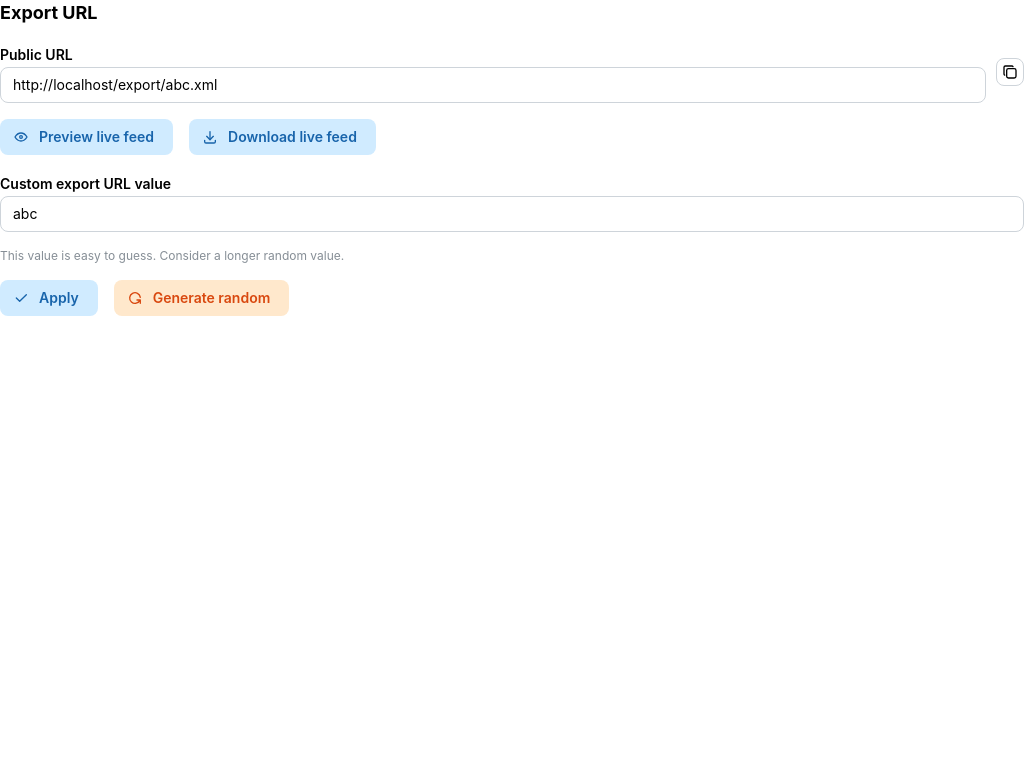
it: ExportUrlBlock › updates the token field after a rotate refreshes the parent feed source
Expected: the field with test id "token-input" holds "abc", left=0, top=196, right=1023, bottom=232
Click the button "Generate random" at (202, 298), box left=114, top=280, right=289, bottom=316
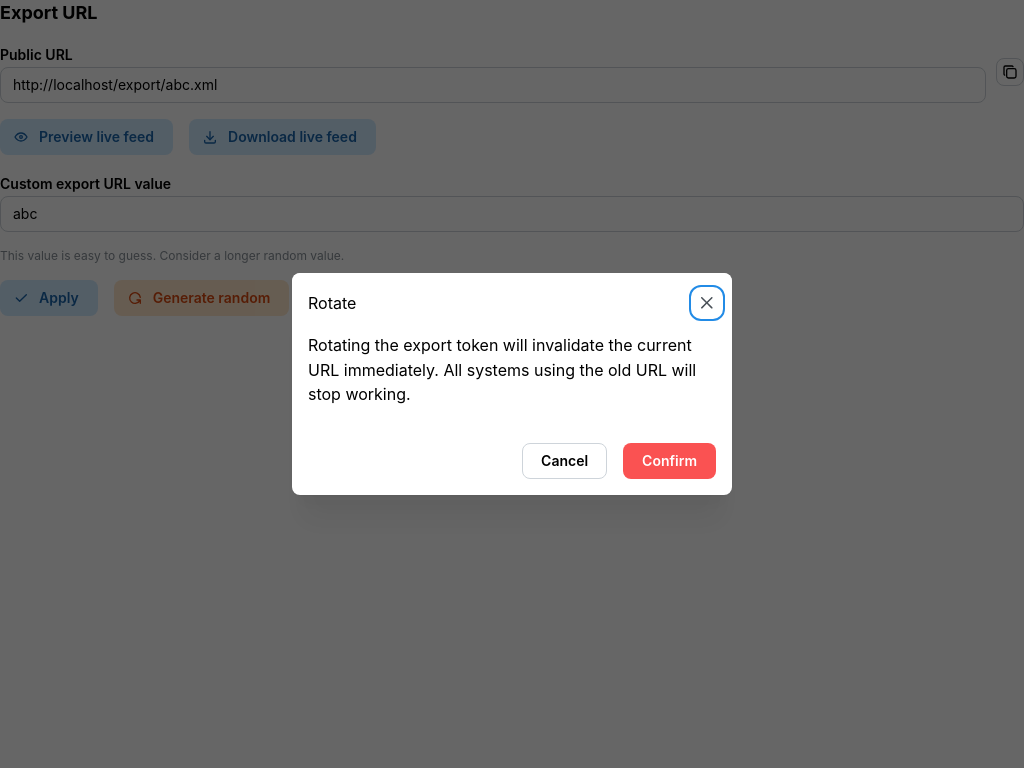
Click the button "Confirm" at (670, 461), box left=623, top=443, right=716, bottom=479
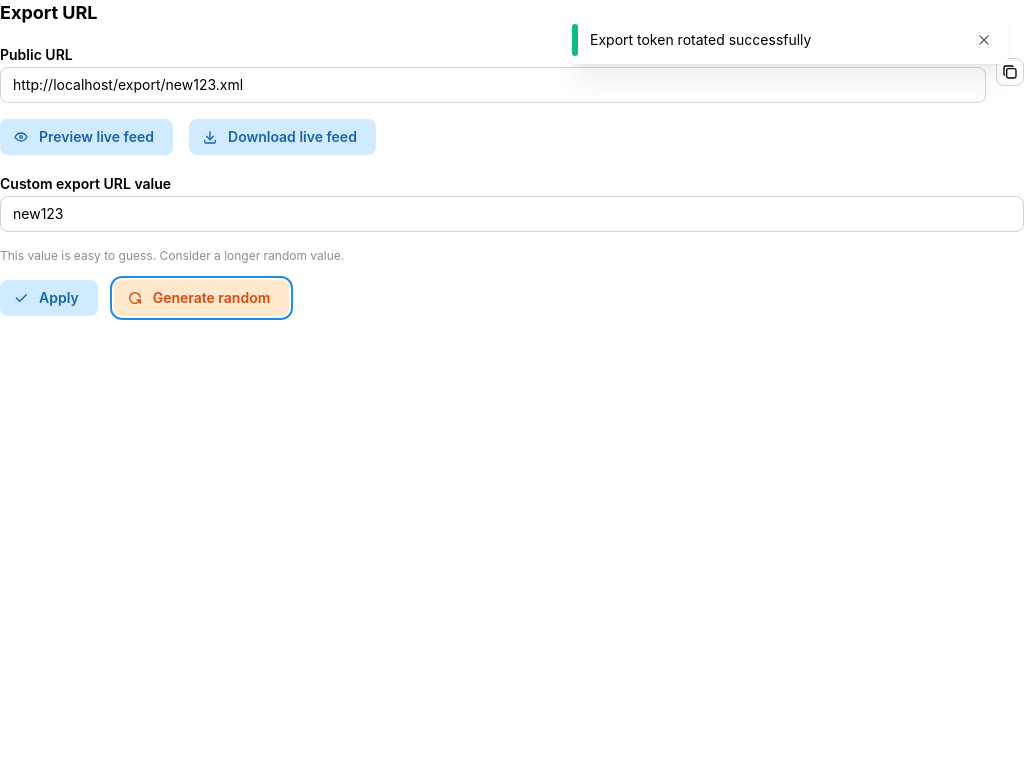
Result: the field with test id "token-input" holds "new123" at left=0, top=196, right=1023, bottom=232
